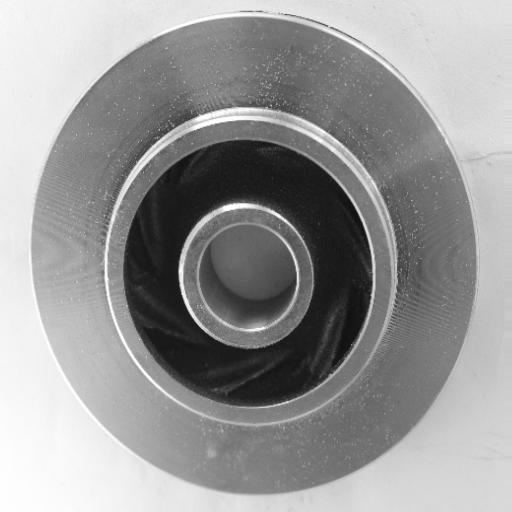polished_casting: (28, 12, 478, 496)
